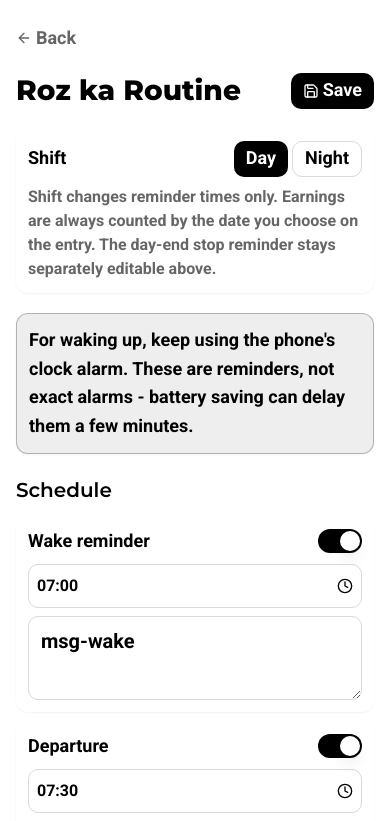
it: RoutinePage save vs scheduling › save success + scheduling success: saved toast and scheduled status
Click the button "Save": {"x": 332, "y": 91} [291, 73, 374, 109]
(page scrolled)
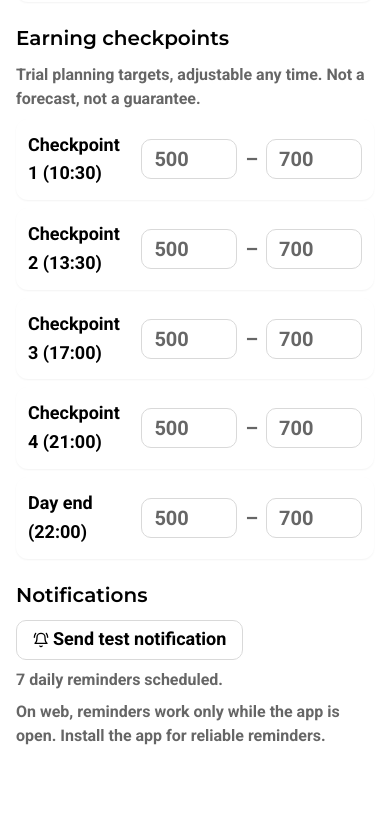
Check: the text "7 daily reminders scheduled." is shown, box [16, 670, 223, 688]
